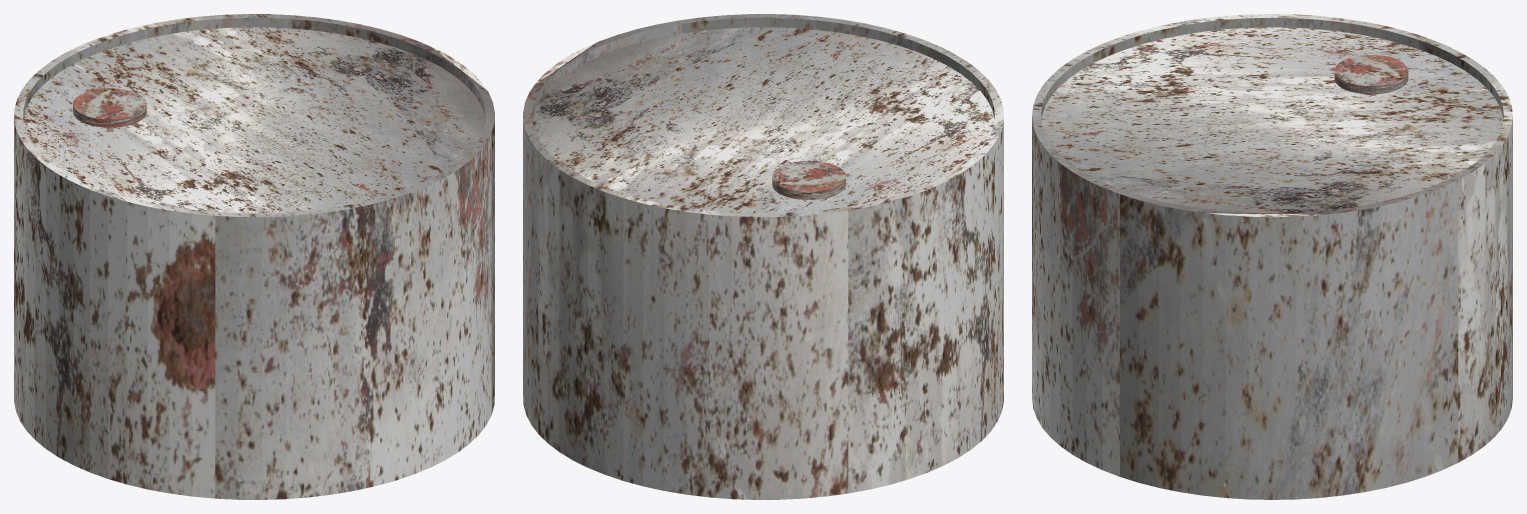
Rendered from Cisterna_002.fbx.
3 views of the same model, side by side, from view 1: azimuth 30°, elevation 25°; view 2: azimuth 150°, elevation 25°; view 3: azimuth 270°, elevation 25° (orthographic).
Visible parts, largest first — view 1: Cylinder; view 2: Cylinder; view 3: Cylinder.
Part boxes in pixels (left/top/right/bottom): Cylinder: left=14, top=14, right=494, bottom=499; Cylinder: left=523, top=14, right=1003, bottom=499; Cylinder: left=1032, top=14, right=1512, bottom=499.
Bounding box in the file's own units: 308 × 200 × 308.
